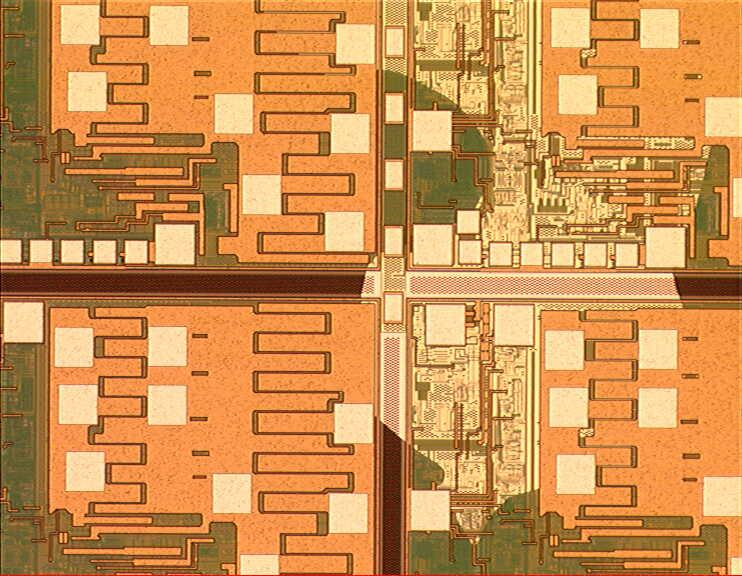BLOCK ETCH: (259, 1, 717, 552)
